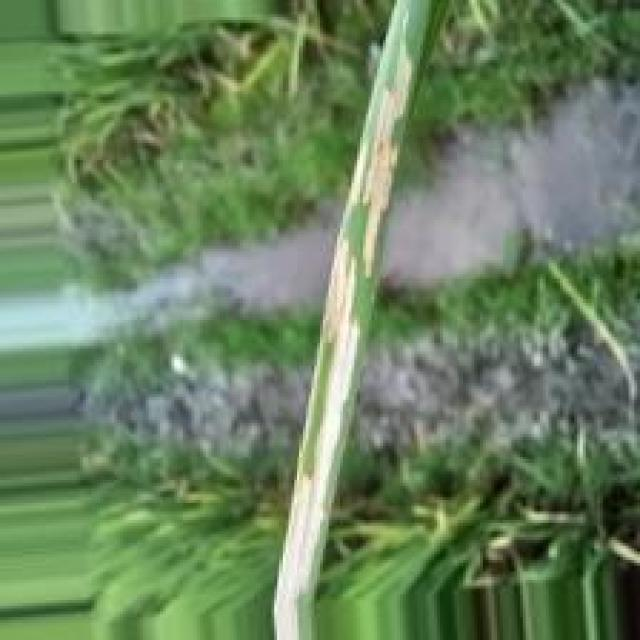Rice_Hispa: (274, 230, 362, 640), (351, 23, 424, 269)
